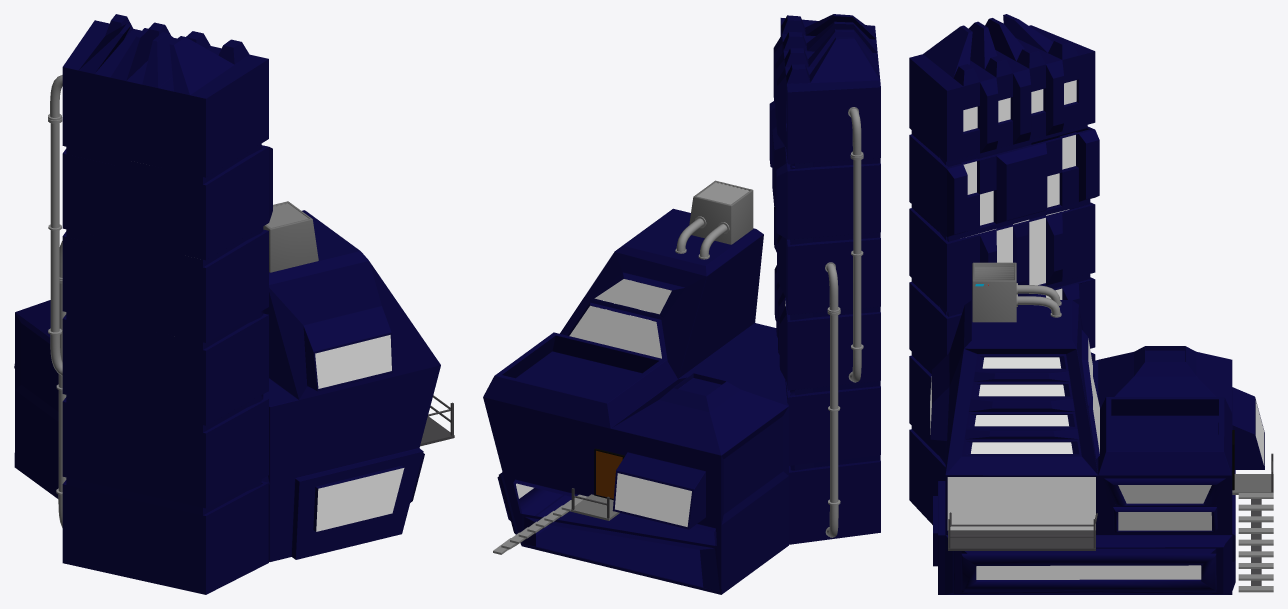
3 renders of one model, left to right at view 1: azimuth 30°, elevation 25°; view 2: azimuth 150°, elevation 25°; view 3: azimuth 270°, elevation 25°, orthographic. The views are drawn at different scales.
Visible parts, largest first — view 1: MB2, MB, White_lines, White_lines.001, Pipe2, GlassBuild, Cond, Pipe1, Grid; view 2: MB, MB2, MB.002, White_lines, GlassBuild, Pipe1, Pipe2, Cond, Door1, Steps, Plane1, Grid; view 3: MB, MB2, GlassBuild, White_lines, MB.001, Plane2, MB2.001, Cond, Steps, Plane, Handrail1, Plane1 (+2 smaller).
Boxes of the visible parts, box(x1,y1,x2,y2) form: MB2: box(62, 14, 272, 594); MB: box(14, 210, 440, 561); White_lines: box(66, 143, 403, 531); White_lines.001: box(316, 468, 404, 531); Pipe2: box(48, 75, 62, 375); GlassBuild: box(315, 335, 391, 388); Cond: box(263, 201, 318, 272); Pipe1: box(56, 241, 66, 527); Grid: box(266, 203, 308, 227); MB: box(483, 208, 788, 594); MB2: box(769, 14, 880, 544); MB.002: box(569, 279, 671, 358); White_lines: box(522, 158, 880, 548); GlassBuild: box(516, 280, 691, 526); Pipe1: box(825, 262, 840, 537); Pipe2: box(848, 107, 863, 382); Cond: box(689, 180, 753, 244); Door1: box(596, 450, 622, 498); Steps: box(493, 494, 587, 554); Plane1: box(570, 494, 619, 520); Grid: box(697, 182, 748, 204); MB: box(929, 300, 1264, 594); MB2: box(909, 14, 1099, 524); GlassBuild: box(930, 357, 1264, 579); White_lines: box(911, 125, 1216, 592); MB.001: box(1118, 485, 1211, 530); Plane2: box(948, 530, 1095, 550); MB2.001: box(963, 80, 1076, 225); Cond: box(972, 262, 1016, 322); Steps: box(1238, 493, 1273, 592); Plane: box(966, 209, 1069, 285); Handrail1: box(948, 512, 1097, 548); Plane1: box(1232, 474, 1273, 494).
Size of the model in its own units: 1609 by 2379 by 1649.
